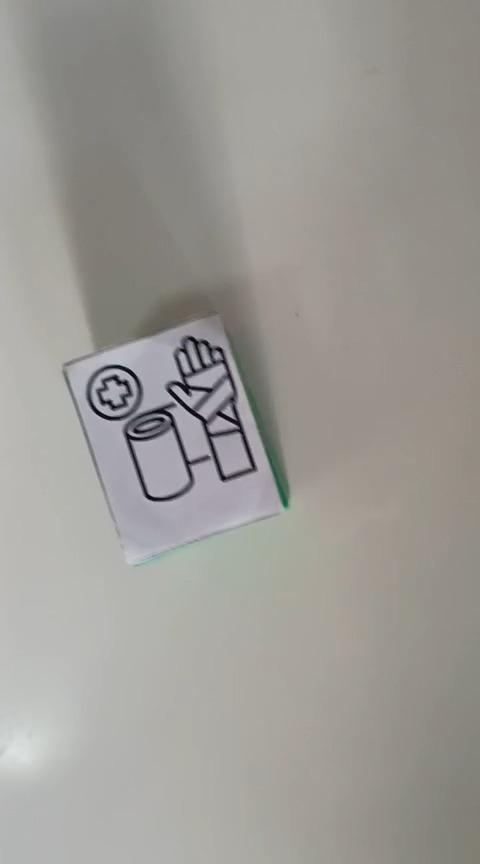Bandages: (61, 309, 290, 566)
